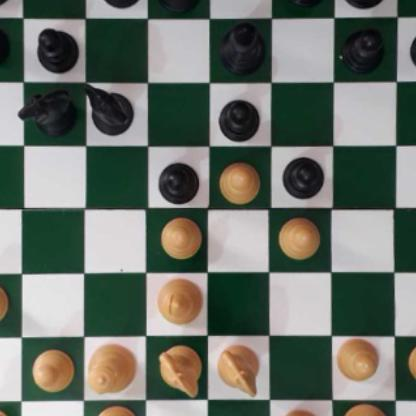black-bishop: (221, 21, 264, 75), (96, 0, 143, 6)
black-king: (340, 0, 395, 10)
black-knight: (23, 85, 75, 135), (83, 83, 134, 132)
black-pawn: (156, 158, 199, 204), (216, 96, 260, 140), (342, 24, 384, 70), (282, 153, 324, 199), (36, 24, 75, 72), (0, 21, 10, 67), (409, 24, 416, 74)
black-queen: (152, 0, 204, 8)
black-rook: (281, 0, 331, 7), (0, 0, 15, 8)
white-bishop: (156, 276, 201, 323), (91, 404, 138, 416)
white-king: (341, 402, 397, 416)
white-knight: (156, 346, 201, 396), (215, 344, 259, 395)
white-pawn: (28, 346, 72, 392), (335, 336, 378, 383), (276, 215, 319, 259), (158, 213, 200, 258), (216, 158, 260, 200), (405, 340, 416, 383), (0, 281, 8, 324)
white-queen: (87, 340, 134, 395)
white-rook: (277, 409, 324, 416), (0, 405, 12, 416)
